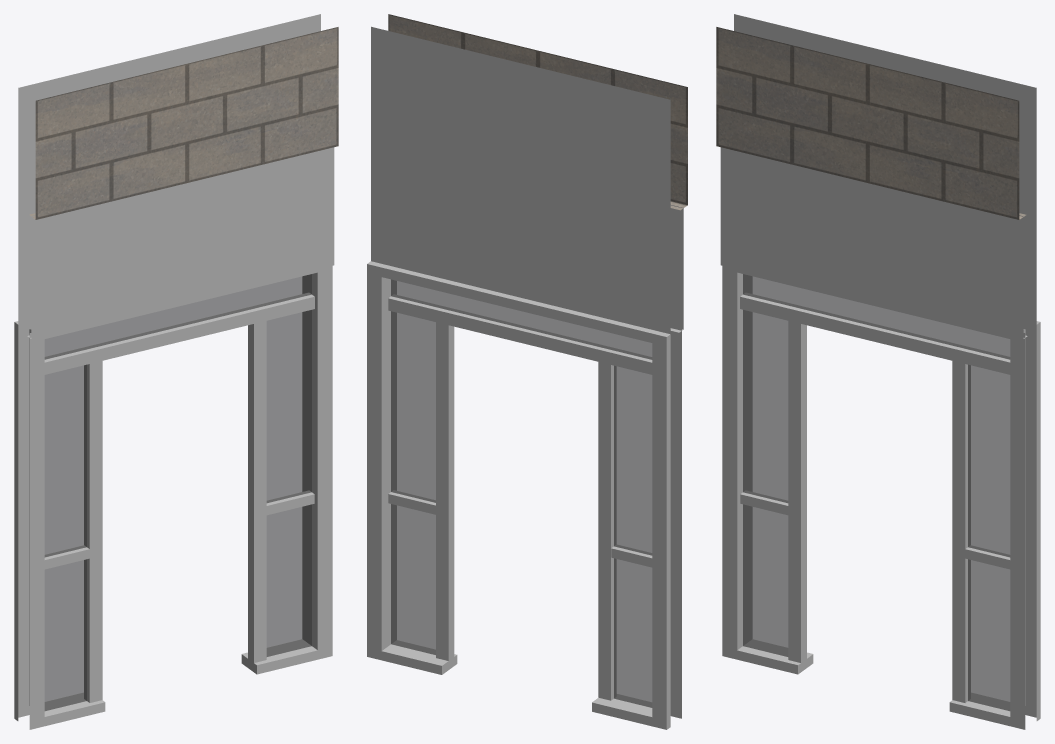
Rendered from DoorFrame_WhiteBrick.gltf.
The picture shows the model from 3 angles, left to right: view 1: azimuth 30°, elevation 25°; view 2: azimuth 150°, elevation 25°; view 3: azimuth 330°, elevation 25°; orthographic projection.
Parts seen in each view (by area): view 1: DoorFrame_WhiteBrick; view 2: DoorFrame_WhiteBrick; view 3: DoorFrame_WhiteBrick.
Boxes of the visible parts, box(x1,y1,x2,y2) form: DoorFrame_WhiteBrick: box(14, 14, 338, 729); DoorFrame_WhiteBrick: box(367, 14, 687, 729); DoorFrame_WhiteBrick: box(716, 14, 1040, 729).
Size of what is drawn, in the model's own units: 2 by 4 by 0.2444.
